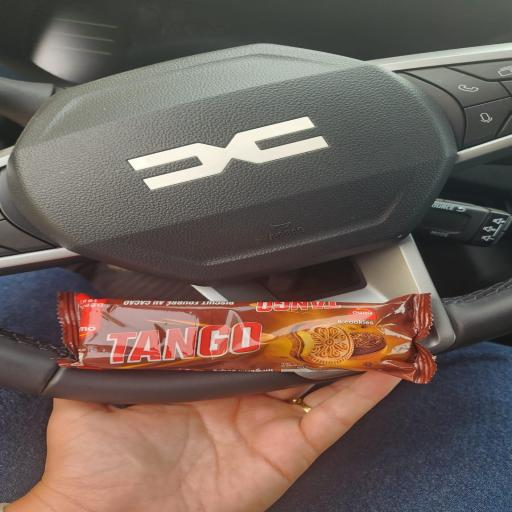tango: (5, 243, 512, 471)
